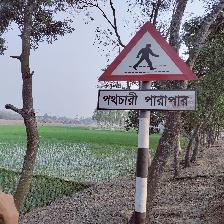Pedestrian-crossing: (96, 20, 199, 113)
